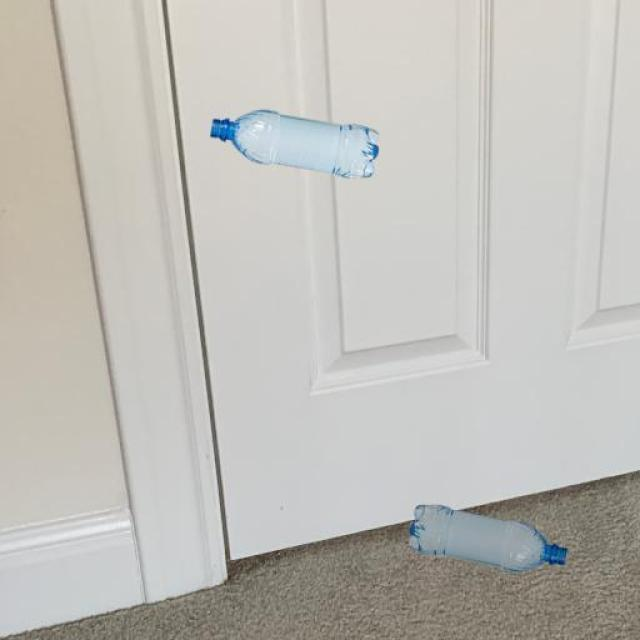bottle: (388, 474, 574, 588), (206, 79, 382, 177)
